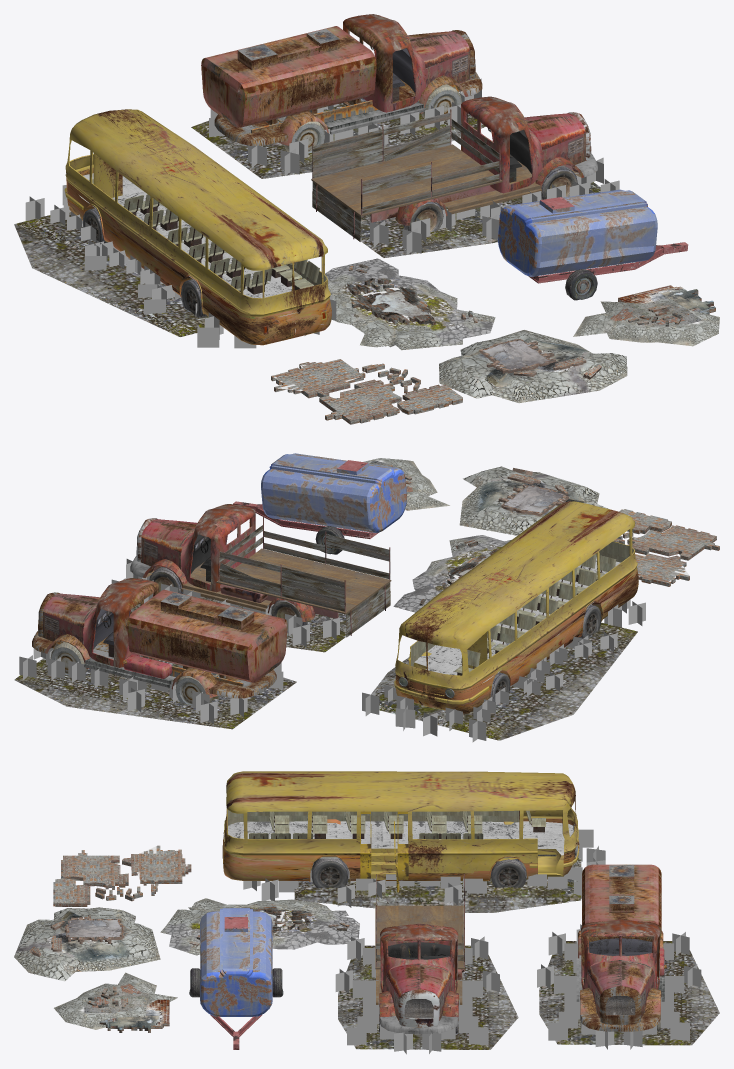
Rendered from ruins.dae.
The picture shows the model from 3 angles, top to bottom: view 1: azimuth 30°, elevation 25°; view 2: azimuth 150°, elevation 25°; view 3: azimuth 270°, elevation 25°; orthographic projection. The views are drawn at different scales.
Visible parts, largest first — view 1: Buss, Oil-truck, Truck, TrckGR (×3), water-tank, Ruin2, Ruin1, Grass.14 (×3), Ruin4, Ruin3, Grass; view 2: Buss, Oil-truck, Truck, TrckGR (×3), water-tank, Grass.14 (×3), Ruin1, Ruin4, Ruin2, Grass, Ruin3; view 3: Buss, TrckGR (×3), Oil-truck, Grass.14 (×3), Truck, water-tank, Ruin1, Ruin2, Ruin4, Ruin3, Grass.
Part boxes in pixels (x1,y1,x2,y2): Buss: [64, 109, 331, 345]; Oil-truck: [201, 14, 482, 153]; Truck: [311, 96, 597, 241]; TrckGR (×3): [14, 98, 600, 336]; water-tank: [497, 189, 688, 300]; Ruin2: [325, 258, 495, 350]; Ruin1: [439, 330, 627, 403]; Grass.14 (×3): [25, 78, 619, 298]; Ruin4: [271, 359, 462, 424]; Ruin3: [573, 285, 719, 346]; Grass: [85, 240, 336, 348]; Buss: [394, 501, 638, 713]; Oil-truck: [32, 578, 287, 705]; Truck: [130, 504, 391, 637]; TrckGR (×3): [14, 596, 637, 740]; water-tank: [233, 453, 406, 554]; Grass.14 (×3): [19, 559, 591, 742]; Ruin1: [459, 466, 609, 535]; Ruin4: [613, 509, 719, 586]; Ruin2: [393, 535, 511, 612]; Grass: [523, 599, 645, 696]; Ruin3: [363, 458, 449, 510]; Buss: [222, 771, 579, 892]; TrckGR (×3): [294, 857, 719, 1049]; Oil-truck: [576, 864, 667, 1031]; Grass.14 (×3): [335, 829, 701, 1054]; Truck: [375, 874, 464, 1033]; water-tank: [189, 908, 283, 1049]; Ruin1: [14, 907, 160, 981]; Ruin2: [160, 898, 359, 955]; Ruin4: [53, 845, 191, 906]; Ruin3: [54, 972, 177, 1032]; Grass: [243, 867, 486, 907].
Bounding box in the file's own units: 138 × 25.66 × 178.
